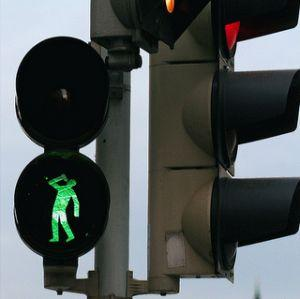Traffic light green: (4, 34, 109, 272)
